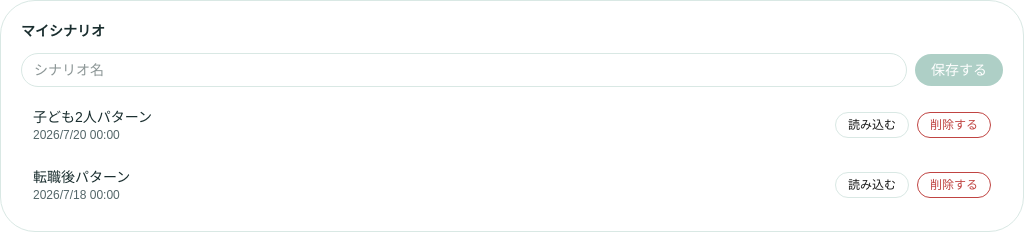
Test: 削除中・削除失敗時の表示 - 処理中の行は再押下できず、失敗が分かる表示をする › 削除処理が完了するまで、その行のボタンが「削除中…」になり再押下できないこと
Click the button "削除する" in the row of "子ども2人パターン" at (954, 125), box 917,112 -> 991,138
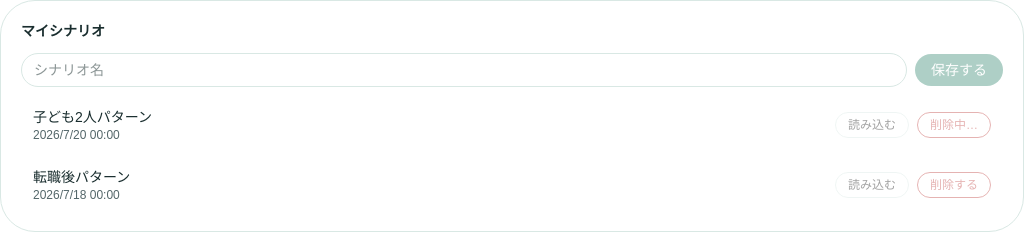
expect the button "削除中…" is disabled: met
Click the button "削除中…" at (954, 125), box 917,112 -> 991,138
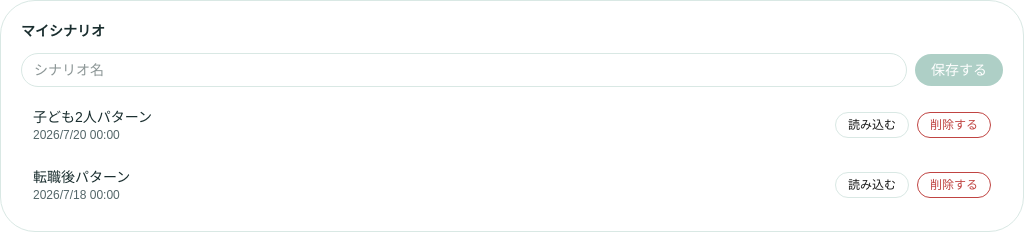
expect the button "削除中…" is gone: met
